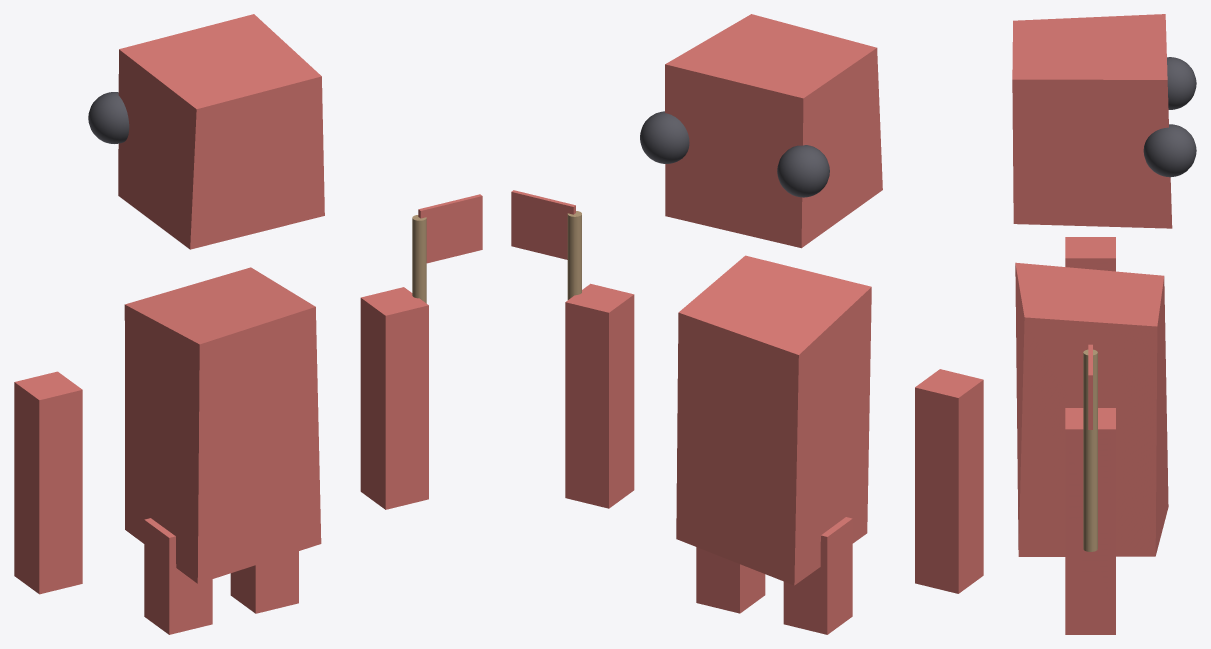
Rendered from clay_obby_runner.glb.
The picture shows the model from 3 angles, left to right: view 1: azimuth 30°, elevation 25°; view 2: azimuth 150°, elevation 25°; view 3: azimuth 270°, elevation 25°; orthographic projection.
Parts seen in each view (by area): view 1: flag; view 2: flag; view 3: flag.
Boxes of the visible parts, left/top/right/bottom form: flag: left=14, top=14, right=482, bottom=634; flag: left=511, top=14, right=983, bottom=634; flag: left=1012, top=14, right=1196, bottom=634.
Bounding box in the file's own units: 2.2 × 2.55 × 0.7648.
